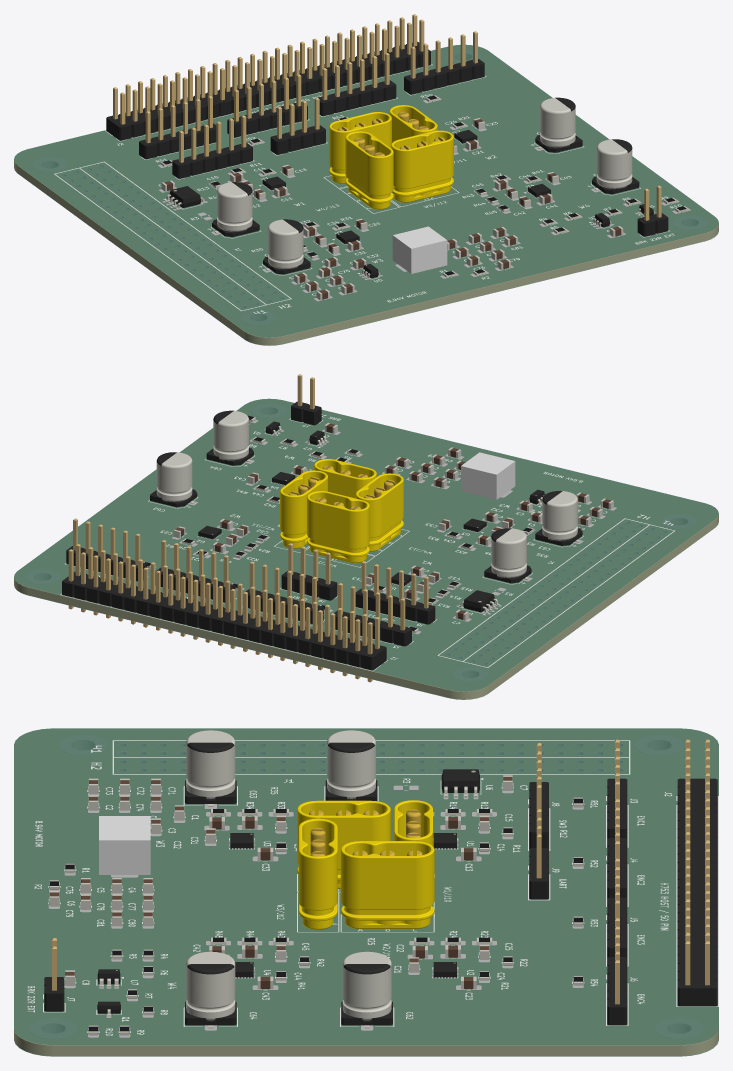
File: board.glb
The picture shows the model from 3 angles, top to bottom: view 1: azimuth 30°, elevation 25°; view 2: azimuth 150°, elevation 25°; view 3: azimuth 270°, elevation 25°; orthographic projection. The views are drawn at different scales.
Visible parts, largest first — view 1: =>[0:1:1:31], =>[0:1:1:33], =>[0:1:1:26], =>[0:1:1:9] (×5), =>0:1:1:12 (×4), =>[0:1:1:5] (×4), =>[0:1:1:29], =>[0:1:1:30], =>[0:1:1:28], =>[0:1:1:22], =>[0:1:1:20], =>[0:1:1:32] (+1 smaller); view 2: =>[0:1:1:31], =>[0:1:1:33], =>[0:1:1:26], =>0:1:1:12 (×4), =>[0:1:1:9] (×5), =>[0:1:1:5] (×4), =>[0:1:1:29], =>[0:1:1:30], =>[0:1:1:28], =>[0:1:1:22], =>[0:1:1:20], =>[0:1:1:32] (+1 smaller); view 3: =>[0:1:1:31], =>[0:1:1:33], =>0:1:1:12 (×4), =>[0:1:1:5] (×4), =>[0:1:1:29], =>[0:1:1:26], =>[0:1:1:30], =>[0:1:1:9] (×5), =>[0:1:1:28], =>[0:1:1:22], =>[0:1:1:24], =>[0:1:1:20] (+1 smaller).
Part boxes in pixels (bbox=[...]): =>[0:1:1:31]: bbox=[14, 44, 718, 337]; =>[0:1:1:33]: bbox=[14, 45, 718, 345]; =>[0:1:1:26]: bbox=[106, 14, 430, 140]; =>[0:1:1:9] (×5): bbox=[139, 31, 484, 178]; =>0:1:1:12 (×4): bbox=[329, 105, 453, 209]; =>[0:1:1:5] (×4): bbox=[212, 97, 639, 274]; =>[0:1:1:29]: bbox=[32, 50, 707, 324]; =>[0:1:1:30]: bbox=[54, 64, 684, 313]; =>[0:1:1:28]: bbox=[392, 226, 447, 273]; =>[0:1:1:22]: bbox=[270, 97, 325, 154]; =>[0:1:1:20]: bbox=[637, 185, 668, 236]; =>[0:1:1:32]: bbox=[14, 170, 717, 345]; =>[0:1:1:31]: bbox=[14, 398, 718, 691]; =>[0:1:1:33]: bbox=[14, 399, 718, 699]; =>[0:1:1:26]: bbox=[62, 544, 386, 682]; =>0:1:1:12 (×4): bbox=[280, 459, 403, 563]; =>[0:1:1:9] (×5): bbox=[66, 518, 435, 646]; =>[0:1:1:5] (×4): bbox=[150, 410, 582, 583]; =>[0:1:1:29]: bbox=[25, 404, 696, 681]; =>[0:1:1:30]: bbox=[60, 414, 674, 671]; =>[0:1:1:28]: bbox=[461, 452, 515, 499]; =>[0:1:1:22]: bbox=[281, 543, 337, 600]; =>[0:1:1:20]: bbox=[291, 374, 321, 425]; =>[0:1:1:32]: bbox=[16, 523, 718, 699]; =>[0:1:1:31]: bbox=[14, 728, 718, 1045]; =>[0:1:1:33]: bbox=[14, 729, 718, 1056]; =>0:1:1:12 (×4): bbox=[297, 800, 434, 929]; =>[0:1:1:5] (×4): bbox=[185, 730, 392, 1028]; =>[0:1:1:29]: bbox=[29, 735, 703, 1038]; =>[0:1:1:26]: bbox=[677, 739, 717, 1006]; =>[0:1:1:30]: bbox=[27, 740, 718, 1035]; =>[0:1:1:9] (×5): bbox=[529, 739, 627, 1025]; =>[0:1:1:28]: bbox=[99, 816, 150, 874]; =>[0:1:1:22]: bbox=[529, 809, 548, 899]; =>[0:1:1:24]: bbox=[441, 769, 479, 797]; =>[0:1:1:20]: bbox=[44, 938, 64, 1011].
Size of the model in its own units: 0.0959 by 0.0135 by 0.0902.
